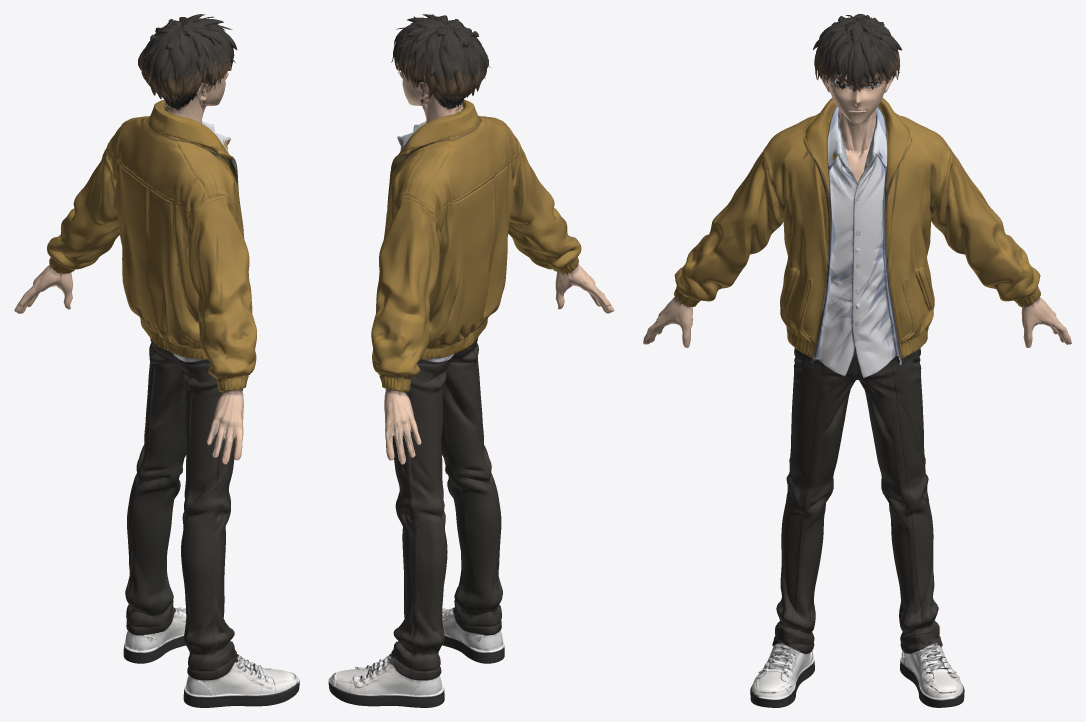
The model's file is kkanjok_tripo.glb.
The picture shows the model from 3 angles, left to right: view 1: azimuth 30°, elevation 25°; view 2: azimuth 150°, elevation 25°; view 3: azimuth 270°, elevation 25°; orthographic projection.
Parts seen in each view (by area): view 1: tripo_node_b238721e-2221-41cd-a9f0-8ff1d0292584; view 2: tripo_node_b238721e-2221-41cd-a9f0-8ff1d0292584; view 3: tripo_node_b238721e-2221-41cd-a9f0-8ff1d0292584.
Part boxes in pixels (bbox=[...]): tripo_node_b238721e-2221-41cd-a9f0-8ff1d0292584: bbox=[14, 14, 299, 707]; tripo_node_b238721e-2221-41cd-a9f0-8ff1d0292584: bbox=[328, 14, 614, 707]; tripo_node_b238721e-2221-41cd-a9f0-8ff1d0292584: bbox=[643, 14, 1071, 707].
Size of the model in its own units: 0.2215 by 0.978 by 0.5729.
1 material, 1 textured.
